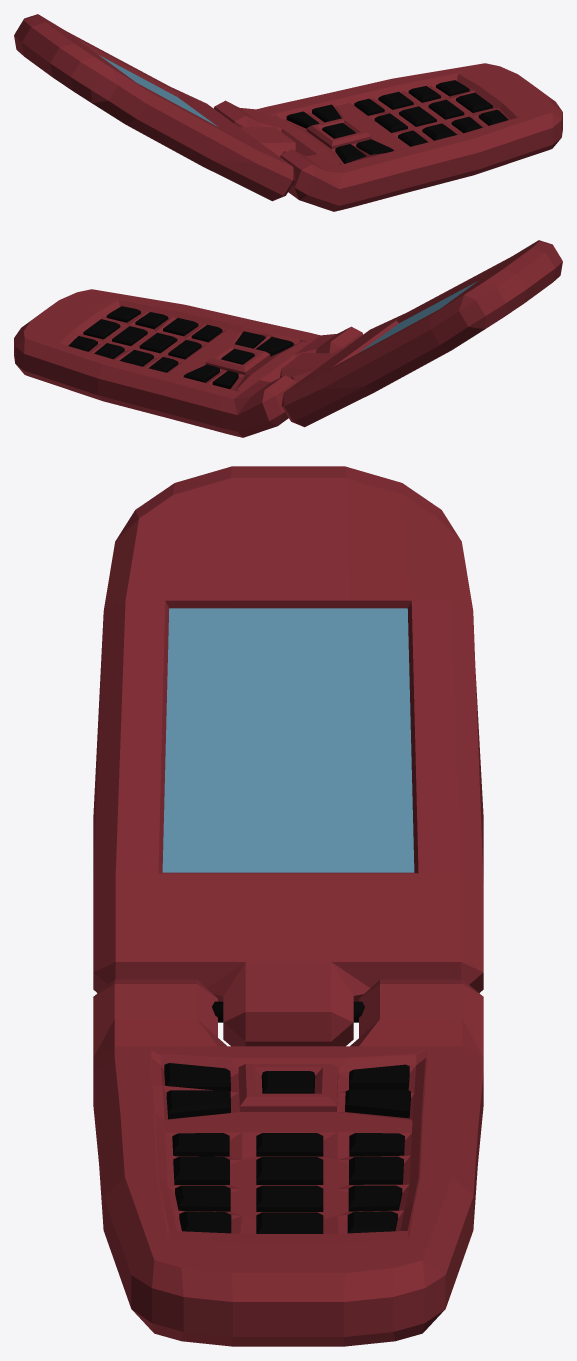
Rendered from Phone.fbx.
3 views of the same model, one above another, from view 1: azimuth 30°, elevation 25°; view 2: azimuth 150°, elevation 25°; view 3: azimuth 270°, elevation 25° (orthographic). The views are drawn at different scales.
Parts seen in each view (by area): view 1: bottom, top; view 2: bottom, top; view 3: top, bottom.
Boxes of the visible parts, x1,y1,x2,y2 form: bottom: [214, 63, 562, 211]; top: [14, 14, 296, 201]; bottom: [14, 289, 362, 437]; top: [280, 240, 562, 427]; top: [93, 466, 483, 1046]; bottom: [93, 979, 483, 1346].
Bounding box in the file's own units: 0.1767 × 0.0687 × 0.059.
